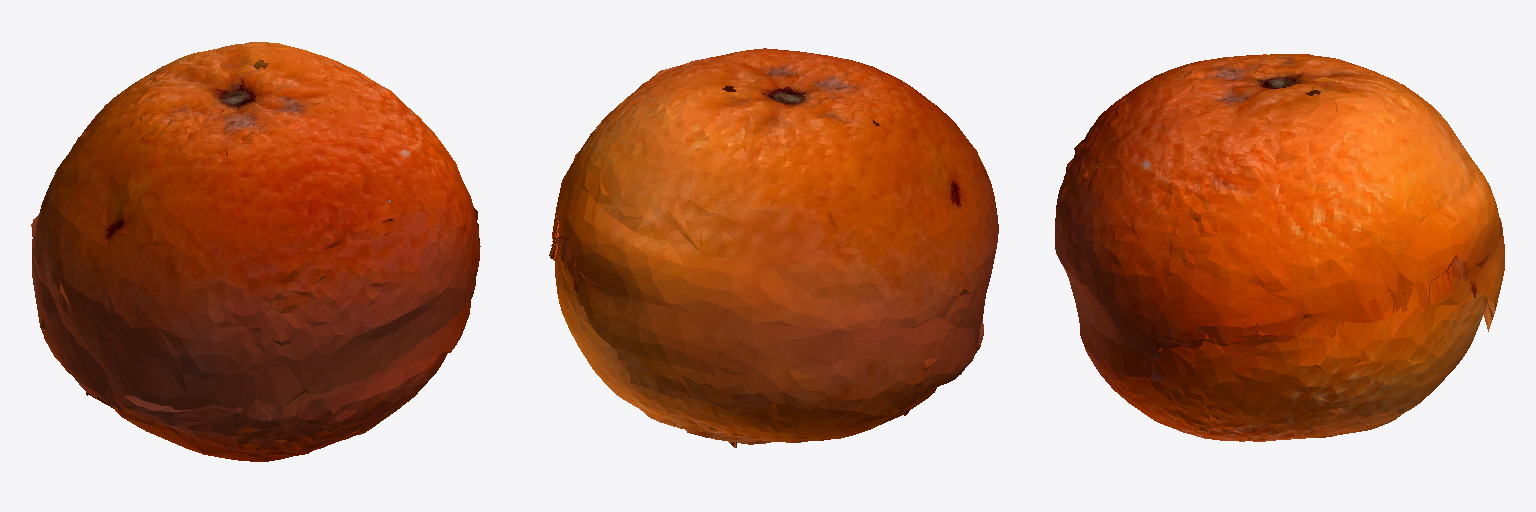
The picture shows the model from 3 angles: view 1: azimuth 30°, elevation 25°; view 2: azimuth 150°, elevation 25°; view 3: azimuth 270°, elevation 25°; orthographic projection.
Parts seen in each view (by area): view 1: model; view 2: model; view 3: model.
Part boxes in pixels (x1,y1,x2,y2): model: (31,42,480,461); model: (549,48,998,447); model: (1055,54,1504,441).
Bounding box in the file's own units: 1.19 × 1.02 × 1.19.
Materials: 2 (2 with a texture image).